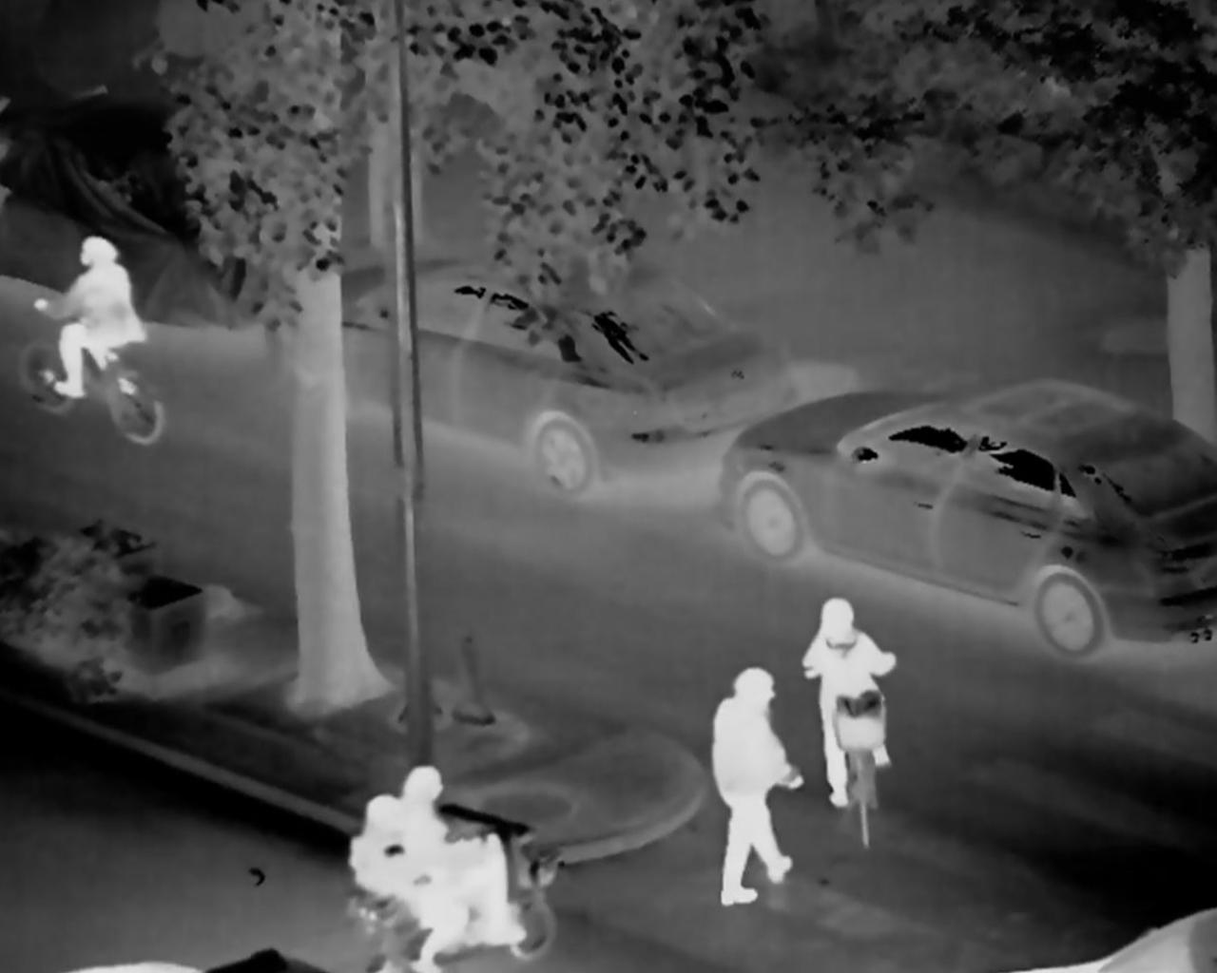person: (33, 229, 160, 418), (704, 667, 796, 907), (806, 597, 899, 806), (397, 765, 488, 950), (349, 794, 434, 959)
